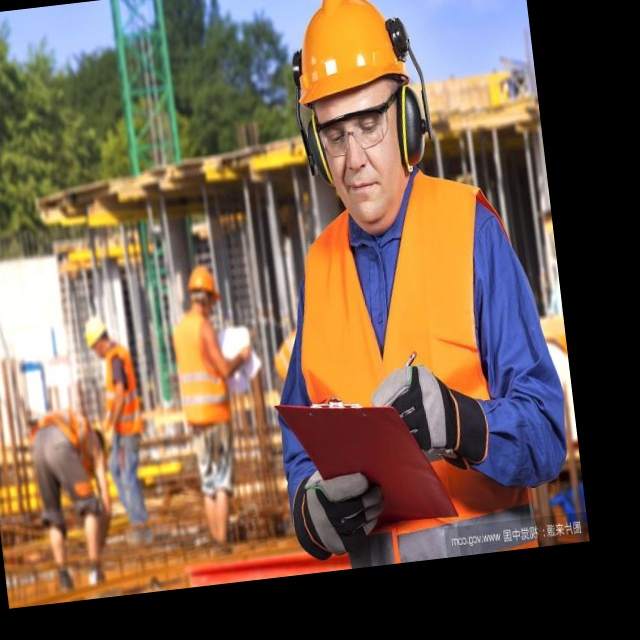Con_Casco: (291, 0, 422, 238)
Con_Chaleco: (282, 170, 532, 560), (167, 313, 227, 429), (95, 342, 146, 439)
